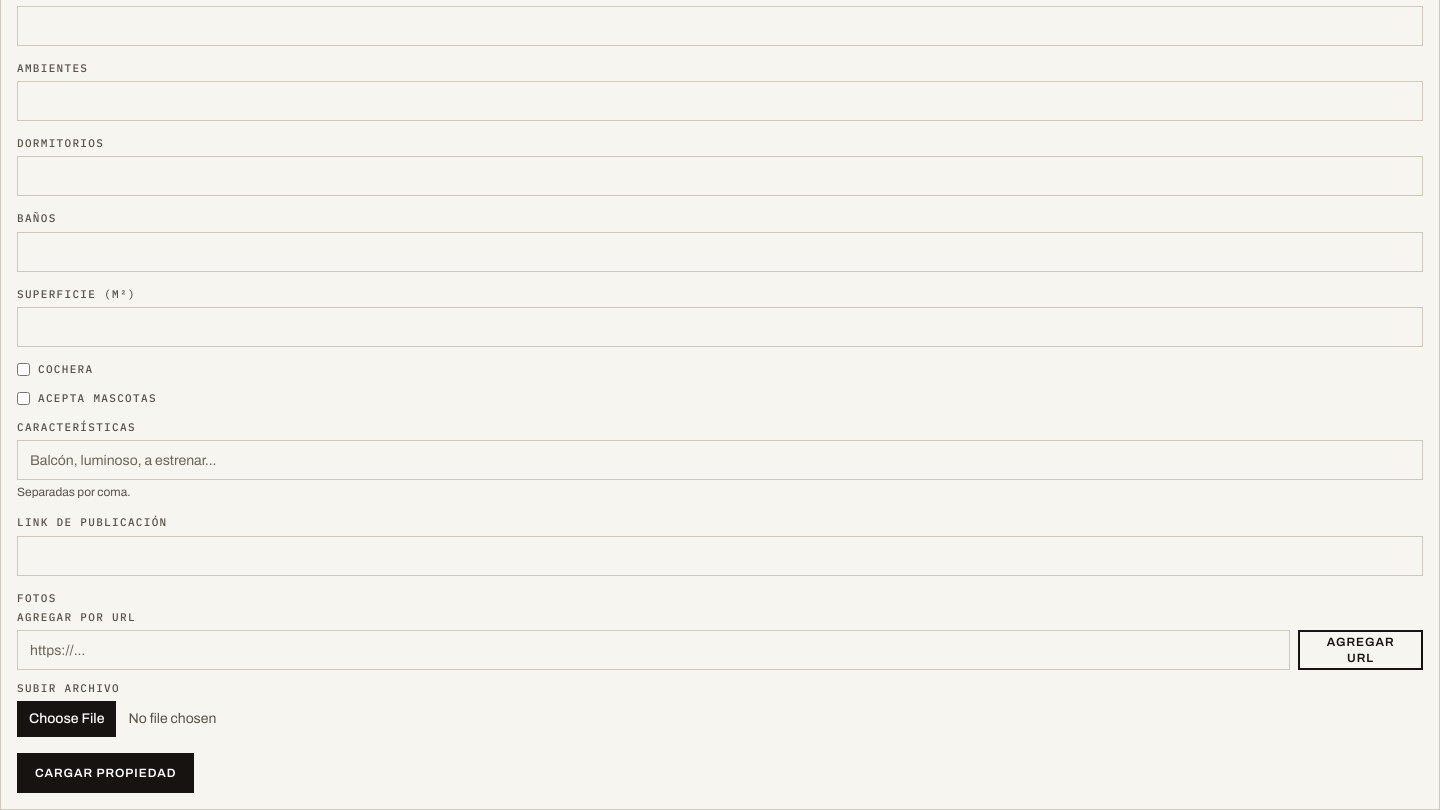
Test: PropertyForm › no envía el alta si faltan campos obligatorios
(page scrolled)
Click the button "Cargar propiedad". click: (106, 773)
box: [17,753,194,793]
(page scrolled)
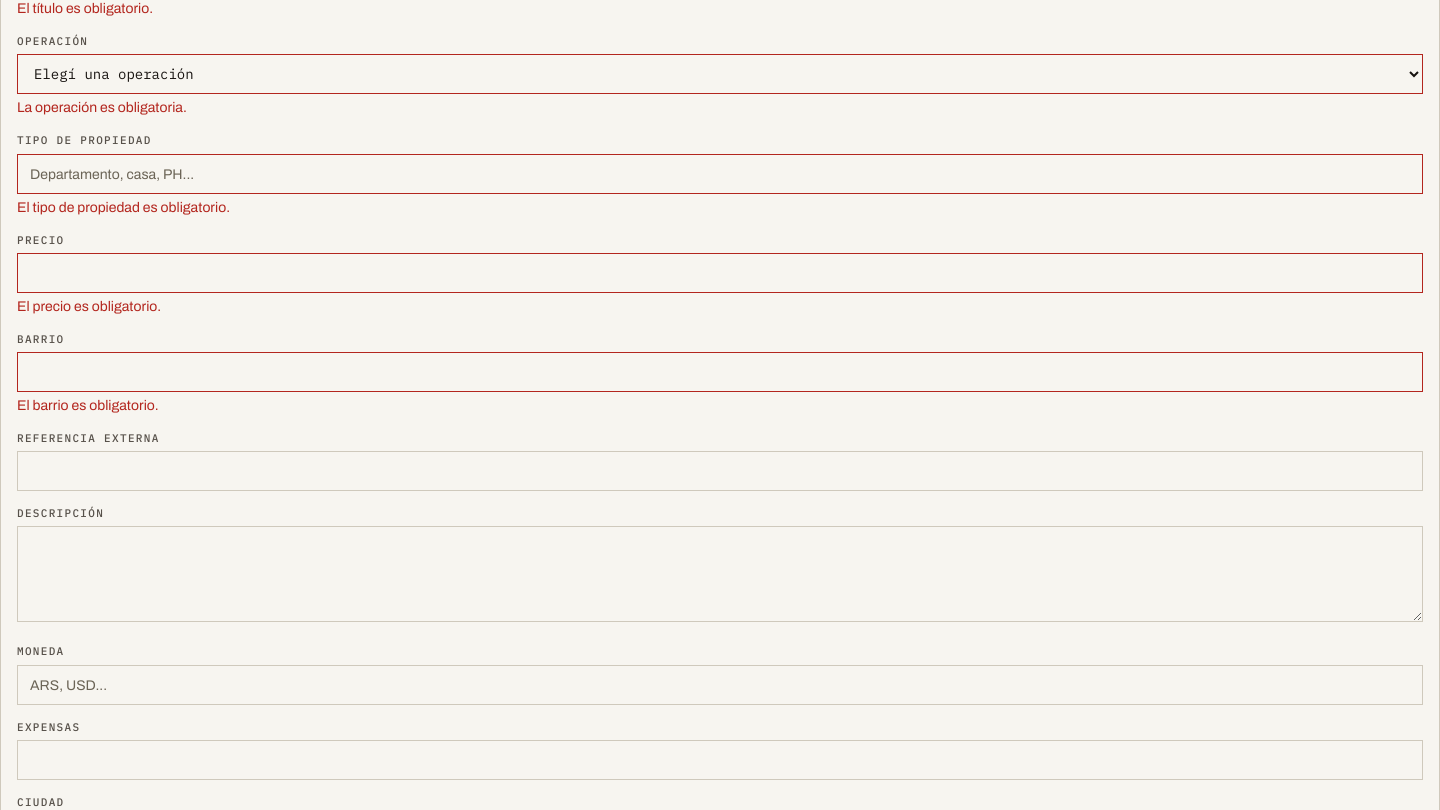
Expected: the text "El título es obligatorio." is shown, [17,1,153,16]
Expected: the text "La operación es obligatoria." is shown, [17,100,187,115]
Expected: the text "El tipo de propiedad es obligatorio." is shown, [17,200,230,215]
